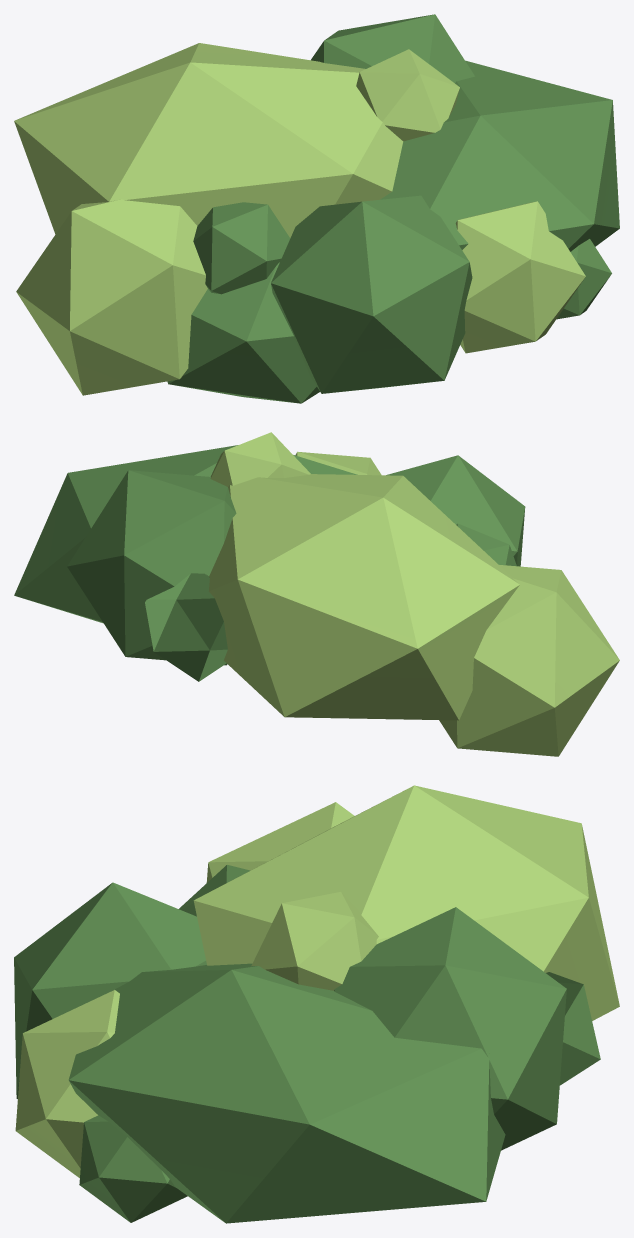
File: Buisson_01.fbx
3 views of the same model, one above another, from view 1: azimuth 30°, elevation 25°; view 2: azimuth 150°, elevation 25°; view 3: azimuth 270°, elevation 25° (orthographic). The views are drawn at different scales.
Visible parts, largest first — view 1: Buisson_01; view 2: Buisson_01; view 3: Buisson_01.
Part boxes in pixels (<box>): Buisson_01: <box>14,14,619,403</box>; Buisson_01: <box>14,432,619,756</box>; Buisson_01: <box>14,785,619,1223</box>.
Bounding box in the file's own units: 366 × 172 × 284.
1 material, 1 textured.
